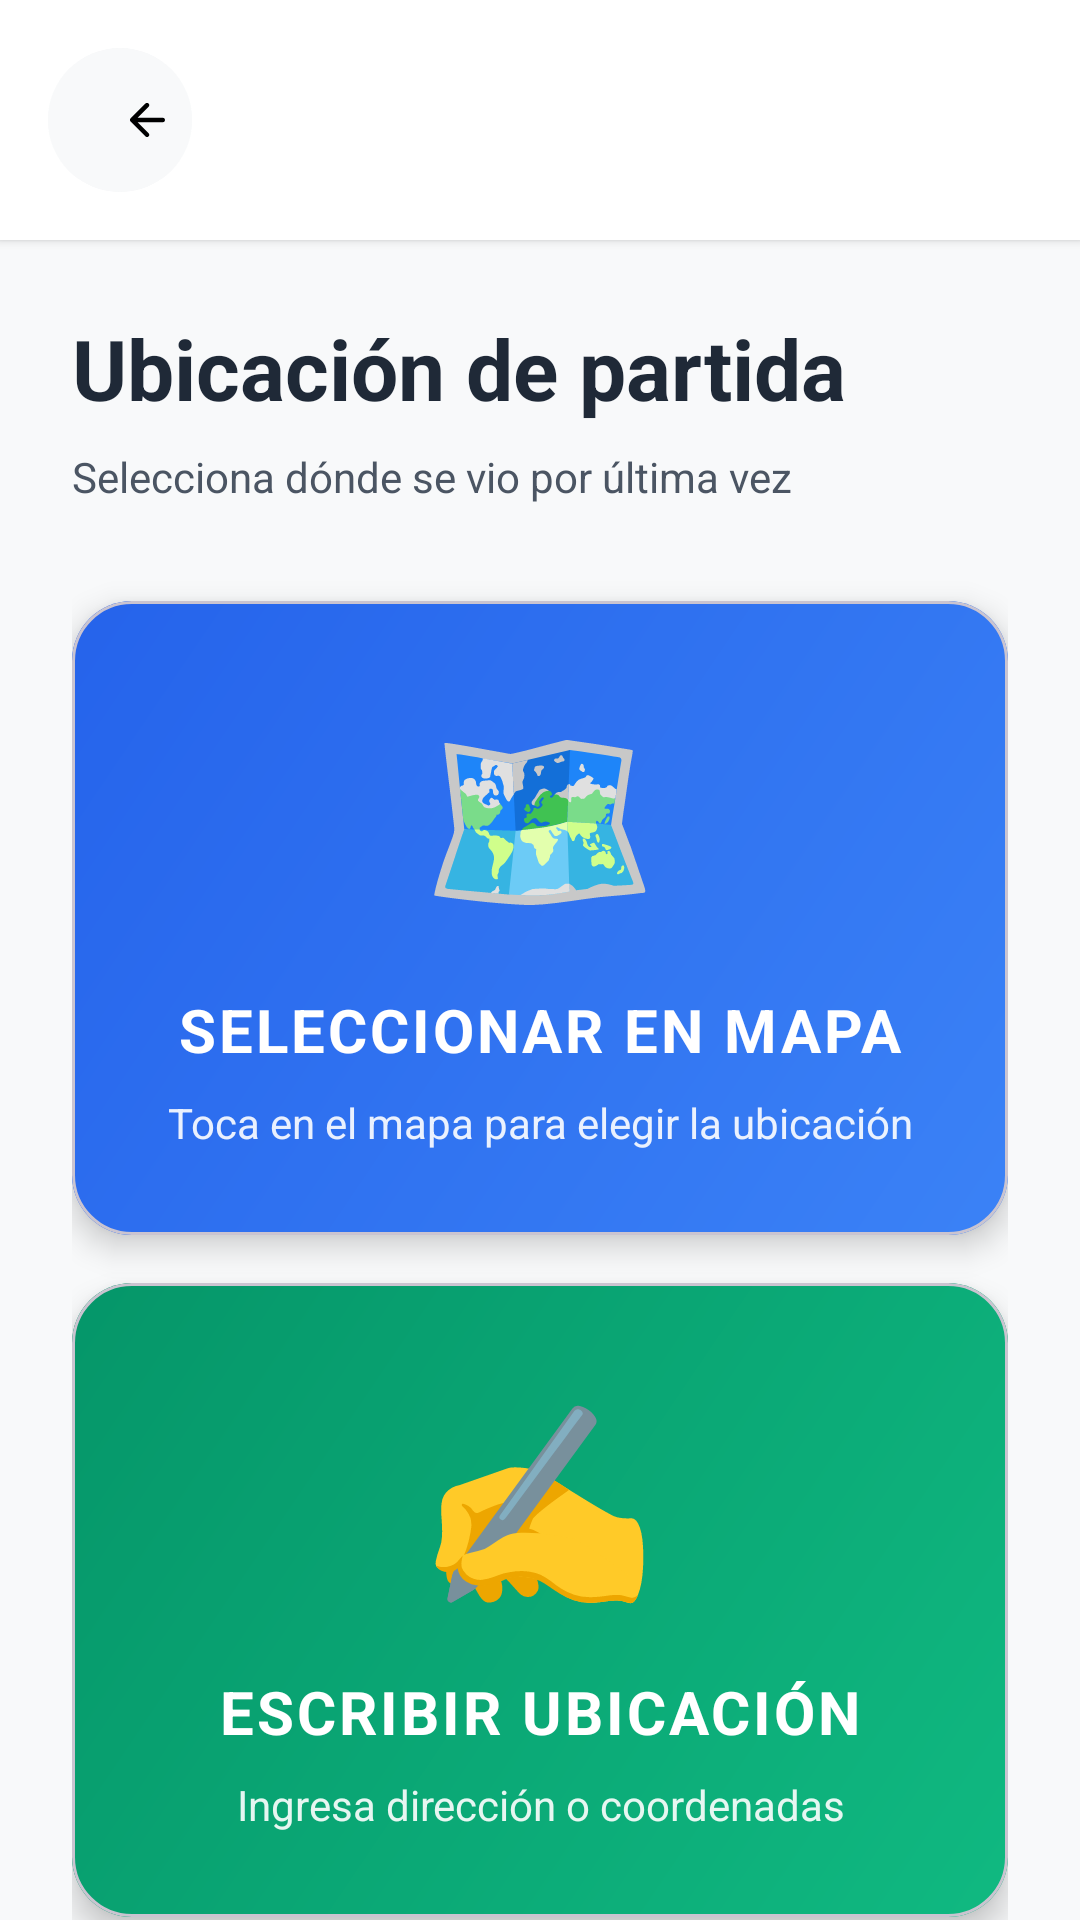

Screen size 1080px x 1920px. Icon name, then its box in pixels as (x1, y1, x2, y2):
back arrow: (130, 103, 165, 137)
